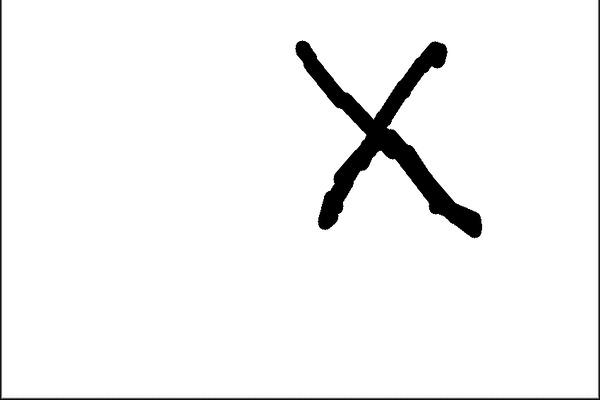X: (275, 19, 510, 271)
